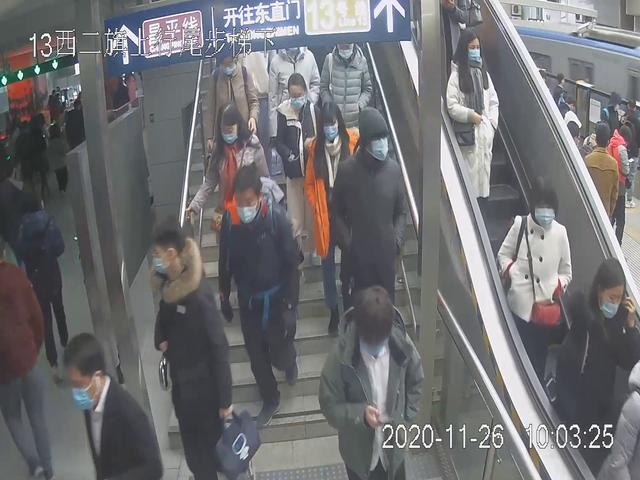person: (140, 216, 260, 480), (217, 161, 307, 425), (329, 102, 415, 352), (317, 281, 425, 480), (551, 259, 640, 480), (301, 95, 370, 352), (496, 179, 572, 409), (444, 31, 501, 250), (274, 67, 329, 284)
